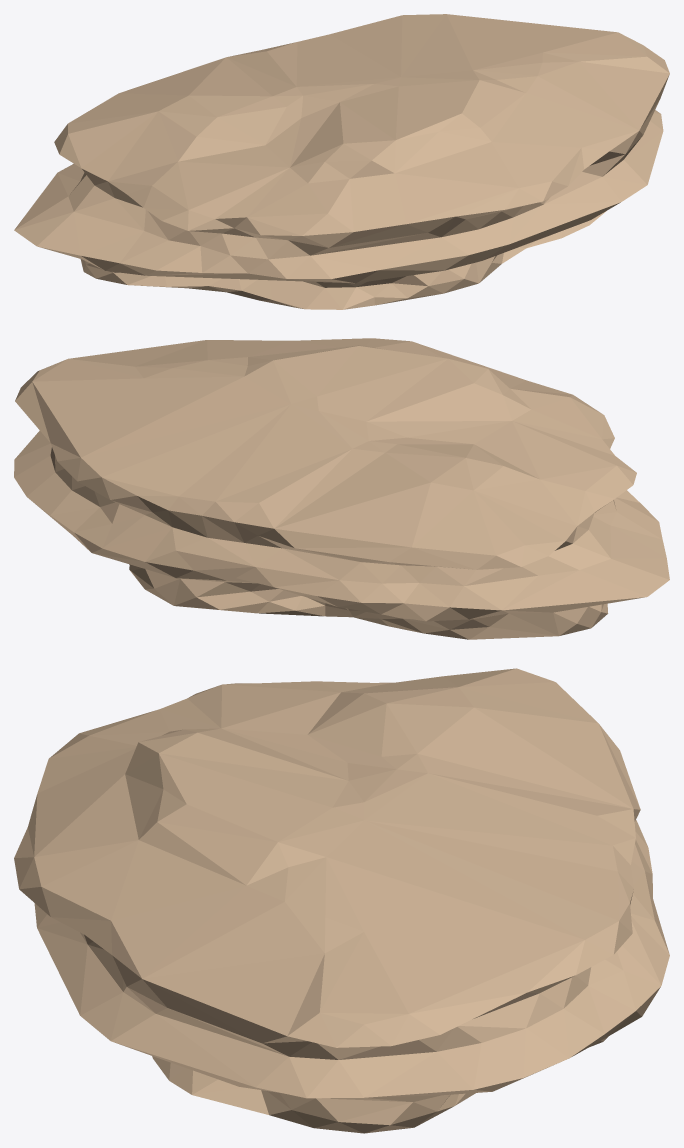
File: SM_DST_Rock_Boulder_B_Frac.fbx
3 renders of one model, top to bottom at view 1: azimuth 30°, elevation 25°; view 2: azimuth 150°, elevation 25°; view 3: azimuth 270°, elevation 25°, orthographic. The views are drawn at different scales.
Visible parts, largest first — view 1: SM_DST_Rock_Boulder_B_p03, SM_DST_Rock_Boulder_B_p05, SM_DST_Rock_Boulder_B_p00, SM_DST_Rock_Boulder_B_p02, SM_DST_Rock_Boulder_B_p04, SM_DST_Rock_Boulder_B_p01; view 2: SM_DST_Rock_Boulder_B_p00, SM_DST_Rock_Boulder_B_p03, SM_DST_Rock_Boulder_B_p01, SM_DST_Rock_Boulder_B_p04, SM_DST_Rock_Boulder_B_p02, SM_DST_Rock_Boulder_B_p05; view 3: SM_DST_Rock_Boulder_B_p02, SM_DST_Rock_Boulder_B_p00, SM_DST_Rock_Boulder_B_p04, SM_DST_Rock_Boulder_B_p01, SM_DST_Rock_Boulder_B_p05, SM_DST_Rock_Boulder_B_p03.
Boxes of the visible parts, x1=… form: SM_DST_Rock_Boulder_B_p03: x1=14, y1=109, x2=411, y2=309; SM_DST_Rock_Boulder_B_p05: x1=366, y1=120, x2=600, y2=306; SM_DST_Rock_Boulder_B_p00: x1=82, y1=63, x2=530, y2=161; SM_DST_Rock_Boulder_B_p02: x1=505, y1=38, x2=669, y2=241; SM_DST_Rock_Boulder_B_p04: x1=333, y1=17, x2=628, y2=87; SM_DST_Rock_Boulder_B_p01: x1=176, y1=14, x2=471, y2=74; SM_DST_Rock_Boulder_B_p00: x1=261, y1=345, x2=473, y2=639; SM_DST_Rock_Boulder_B_p03: x1=457, y1=361, x2=669, y2=639; SM_DST_Rock_Boulder_B_p01: x1=21, y1=446, x2=361, y2=616; SM_DST_Rock_Boulder_B_p04: x1=14, y1=358, x2=269, y2=487; SM_DST_Rock_Boulder_B_p02: x1=19, y1=340, x2=294, y2=445; SM_DST_Rock_Boulder_B_p05: x1=289, y1=338, x2=519, y2=378; SM_DST_Rock_Boulder_B_p02: x1=72, y1=865, x2=428, y2=1133; SM_DST_Rock_Boulder_B_p00: x1=136, y1=689, x2=628, y2=882; SM_DST_Rock_Boulder_B_p04: x1=258, y1=822, x2=558, y2=1120; SM_DST_Rock_Boulder_B_p01: x1=490, y1=768, x2=669, y2=1067; SM_DST_Rock_Boulder_B_p05: x1=14, y1=775, x2=183, y2=999; SM_DST_Rock_Boulder_B_p03: x1=36, y1=668, x2=566, y2=796.
Bounding box in the file's own units: 2.82 × 0.6185 × 1.84.
